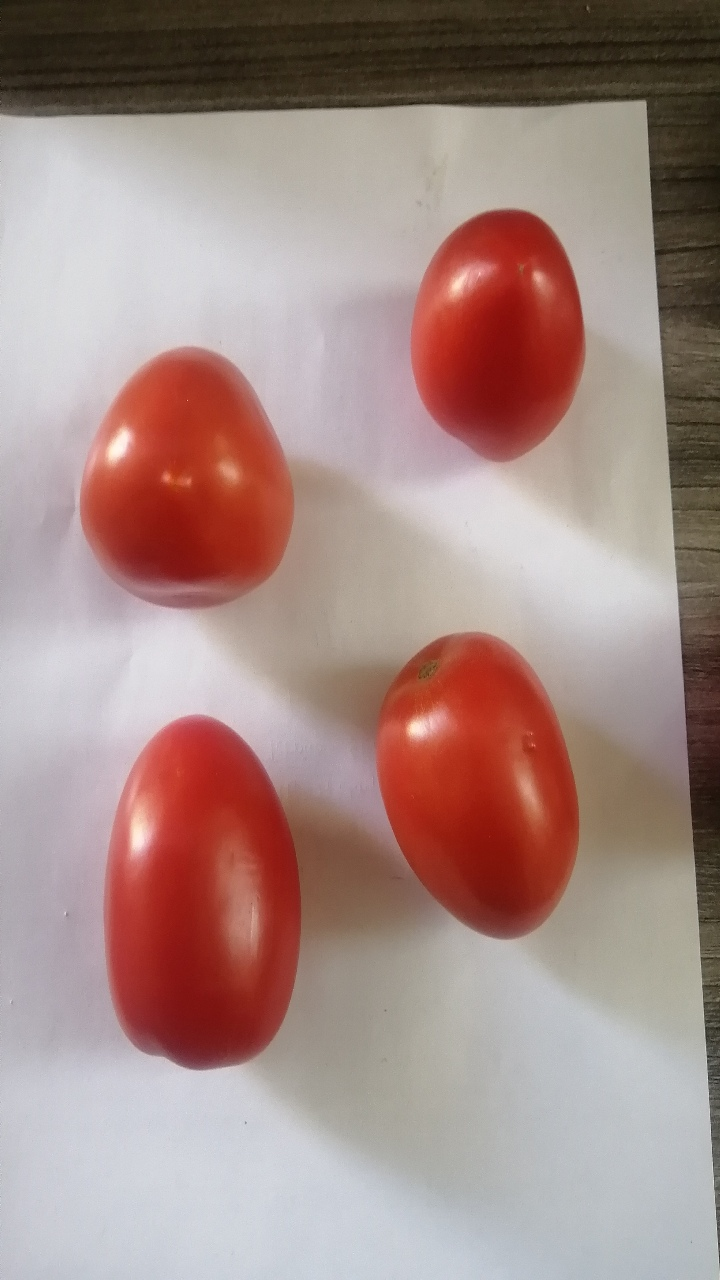tomateRojo: (84, 691, 323, 1091), (358, 609, 586, 966), (49, 315, 300, 629), (394, 192, 601, 483)
